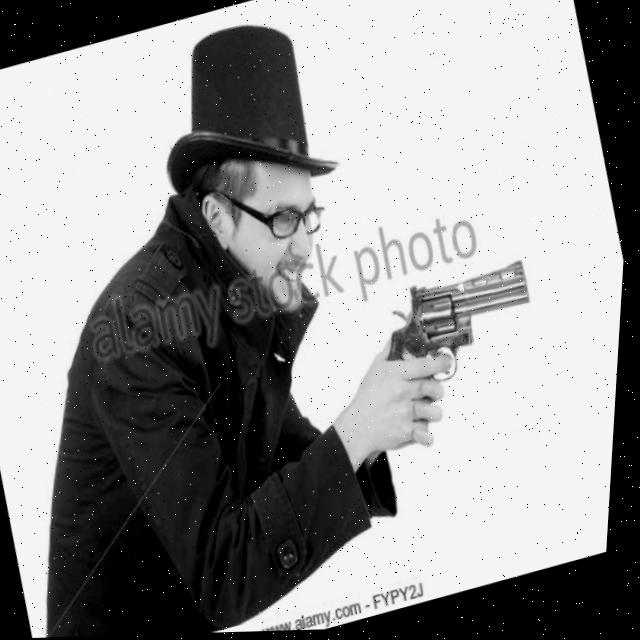pistol: (371, 254, 553, 402)
